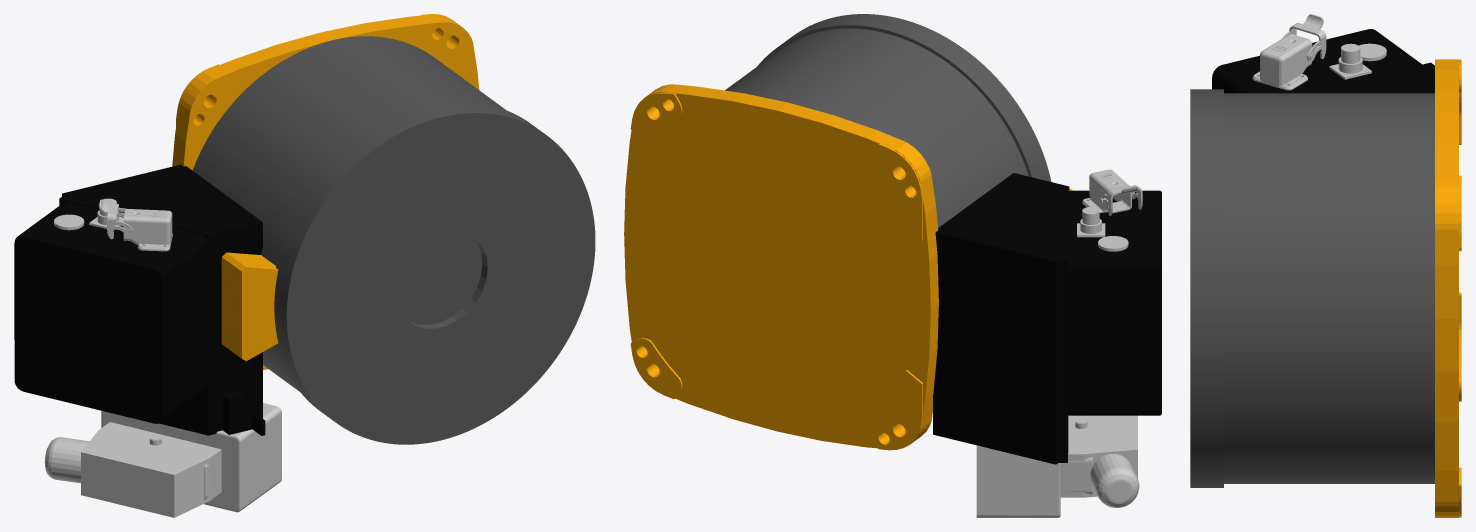
The model's file is BaseLink.glb.
3 views of the same model, side by side, from view 1: azimuth 30°, elevation 25°; view 2: azimuth 150°, elevation 25°; view 3: azimuth 270°, elevation 25° (orthographic). The views are drawn at different scales.
Parts seen in each view (by area): view 1: /node2/Cut007-mesh/0, /node3/Fusion003-mesh/0, /node0/Fusion004-mesh/0, /node1/Fusion-mesh/0; view 2: /node1/Fusion-mesh/0, /node3/Fusion003-mesh/0, /node2/Cut007-mesh/0, /node0/Fusion004-mesh/0; view 3: /node2/Cut007-mesh/0, /node1/Fusion-mesh/0, /node3/Fusion003-mesh/0, /node0/Fusion004-mesh/0.
Part boxes in pixels (box(x1,y1,x2,y2)): /node2/Cut007-mesh/0: box(192, 36, 595, 444); /node3/Fusion003-mesh/0: box(14, 164, 265, 435); /node0/Fusion004-mesh/0: box(44, 198, 281, 517); /node1/Fusion-mesh/0: box(172, 14, 479, 369); /node1/Fusion-mesh/0: box(624, 84, 1072, 450); /node3/Fusion003-mesh/0: box(933, 173, 1161, 464); /node2/Cut007-mesh/0: box(725, 14, 1051, 227); /node0/Fusion004-mesh/0: box(976, 169, 1142, 517); /node2/Cut007-mesh/0: box(1190, 89, 1434, 487); /node1/Fusion-mesh/0: box(1435, 59, 1461, 517); /node3/Fusion003-mesh/0: box(1212, 29, 1434, 93); /node0/Fusion004-mesh/0: box(1252, 14, 1386, 90).
Bounding box in the file's own units: 0.5324 × 0.3763 × 0.225.
